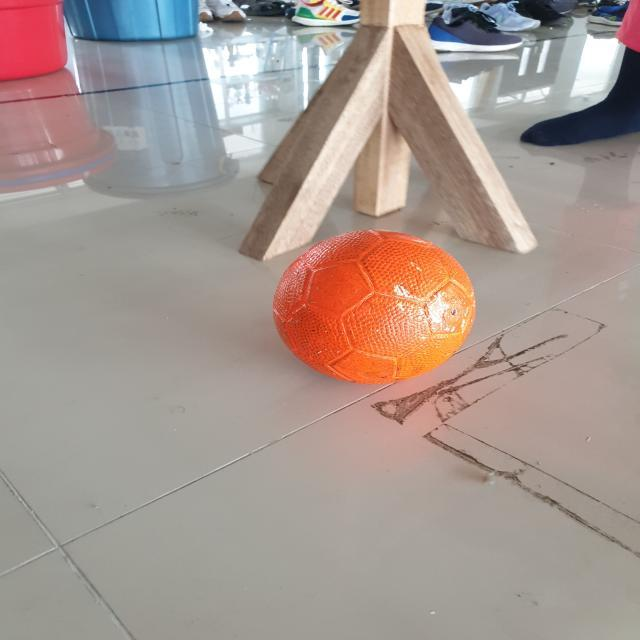bola: (253, 224, 498, 404)
